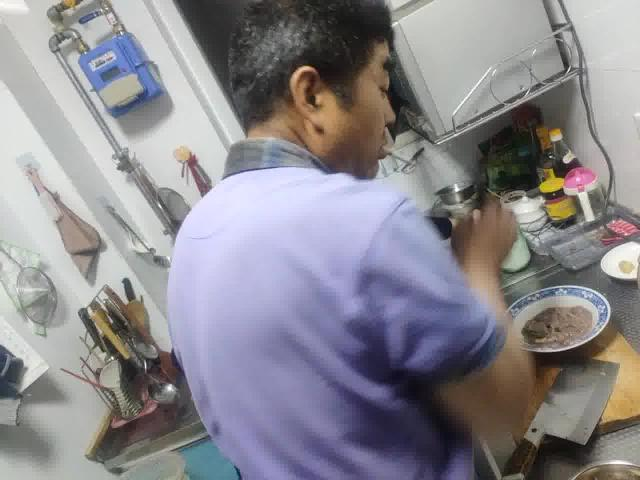Cigarette: (382, 144, 416, 166)
